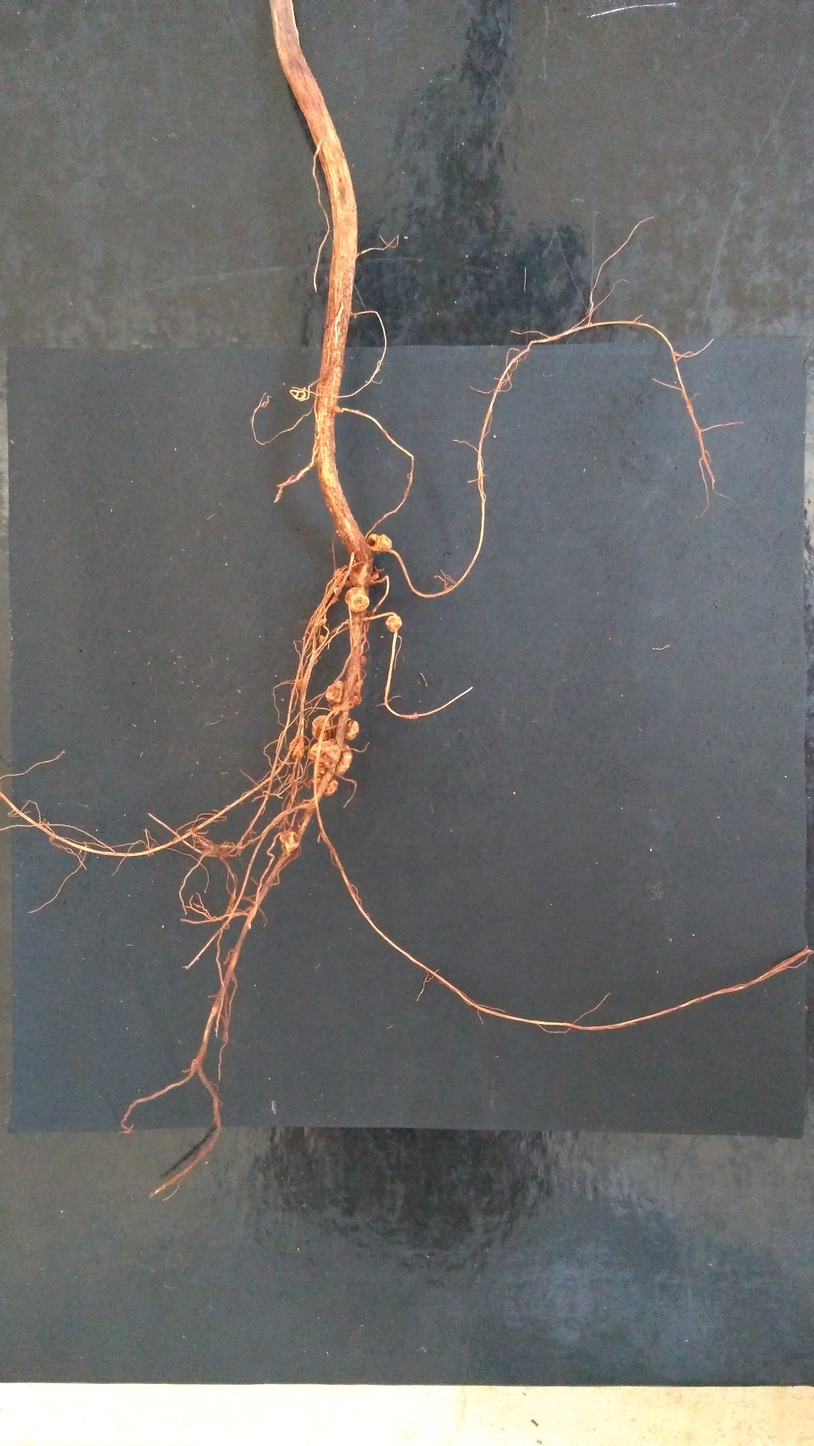nodule: (308, 737, 352, 777), (344, 586, 370, 612), (312, 771, 338, 796), (311, 715, 334, 740), (367, 534, 392, 553), (280, 831, 299, 854), (326, 681, 344, 704), (343, 717, 359, 742), (290, 738, 305, 759), (386, 615, 402, 633), (200, 847, 221, 858), (355, 679, 363, 695), (331, 703, 341, 715), (358, 655, 366, 667), (370, 572, 379, 582), (352, 695, 360, 705), (334, 570, 342, 578), (294, 677, 302, 685), (332, 587, 340, 594), (319, 635, 325, 643), (347, 701, 353, 709)
